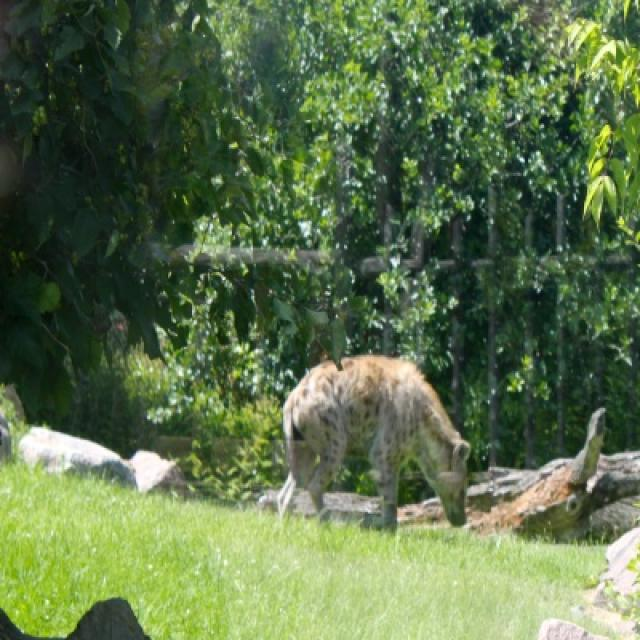hyena: (258, 355, 470, 536)
